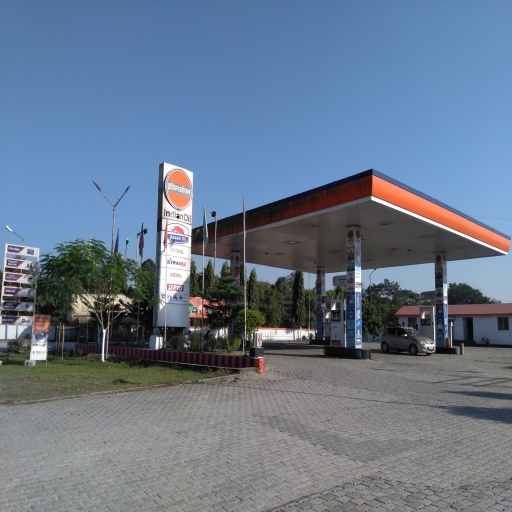roof: (189, 172, 505, 271)
